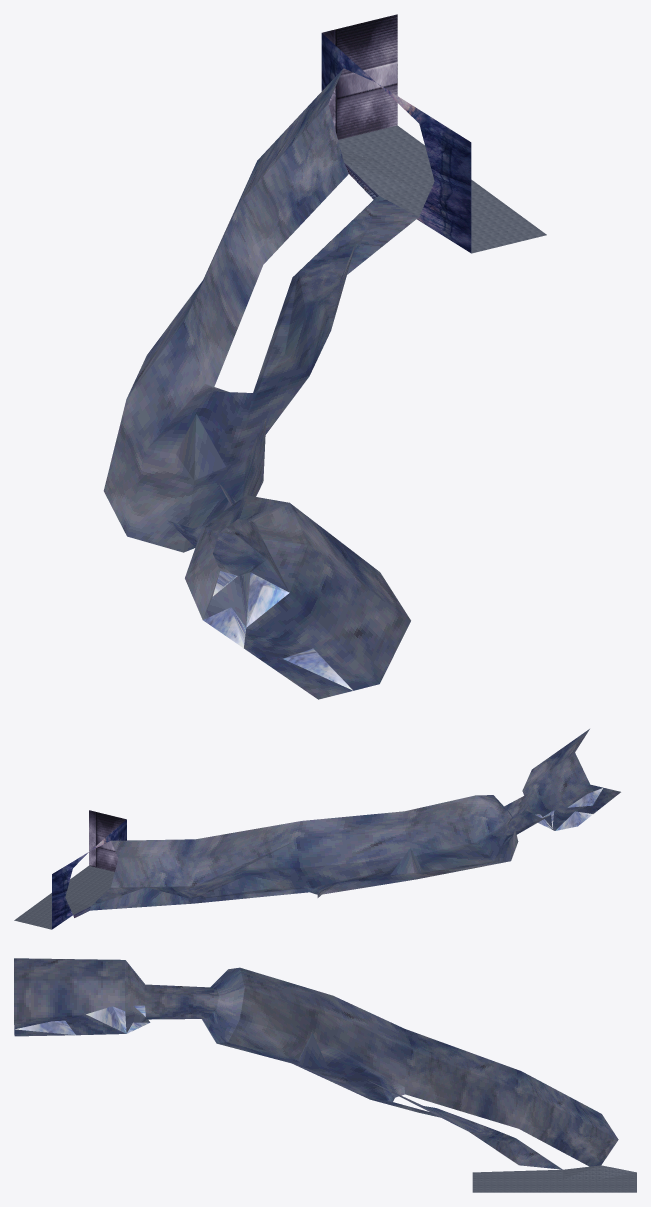
3 renders of one model, top to bottom at view 1: azimuth 30°, elevation 25°; view 2: azimuth 150°, elevation 25°; view 3: azimuth 270°, elevation 25°, orthographic. The views are drawn at different scales.
Parts seen in each view (by area): view 1: 02; view 2: 02; view 3: 02.
Part boxes in pixels (x1,y1,x2,y2): 02: (103, 14, 546, 699); 02: (14, 729, 620, 929); 02: (14, 958, 636, 1192).
Size of the model in its own units: 20118 by 3910 by 29111.
7 materials, 7 textured.
